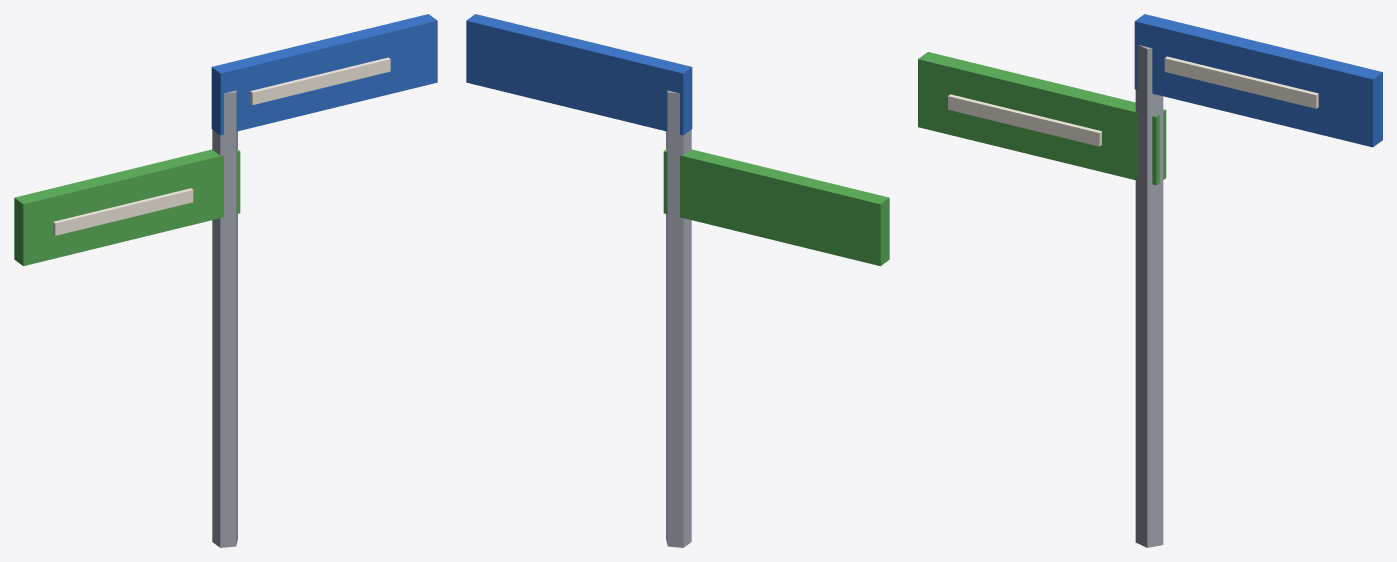
File: prop_direction_sign.glb
3 views of the same model, side by side, from view 1: azimuth 30°, elevation 25°; view 2: azimuth 150°, elevation 25°; view 3: azimuth 330°, elevation 25° (orthographic). The views are drawn at different scales.
Parts seen in each view (by area): view 1: prop_direction_sign; view 2: prop_direction_sign; view 3: prop_direction_sign.
Part boxes in pixels (left/top/right/bottom): prop_direction_sign: left=14, top=14, right=437, bottom=547; prop_direction_sign: left=466, top=14, right=889, bottom=547; prop_direction_sign: left=918, top=14, right=1382, bottom=547.
Bounding box in the file's own units: 0.21 × 0.23 × 0.0117.
